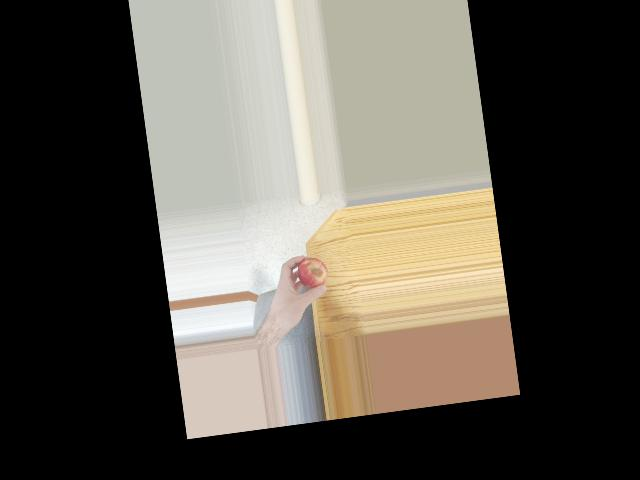apple: (295, 254, 330, 293)
